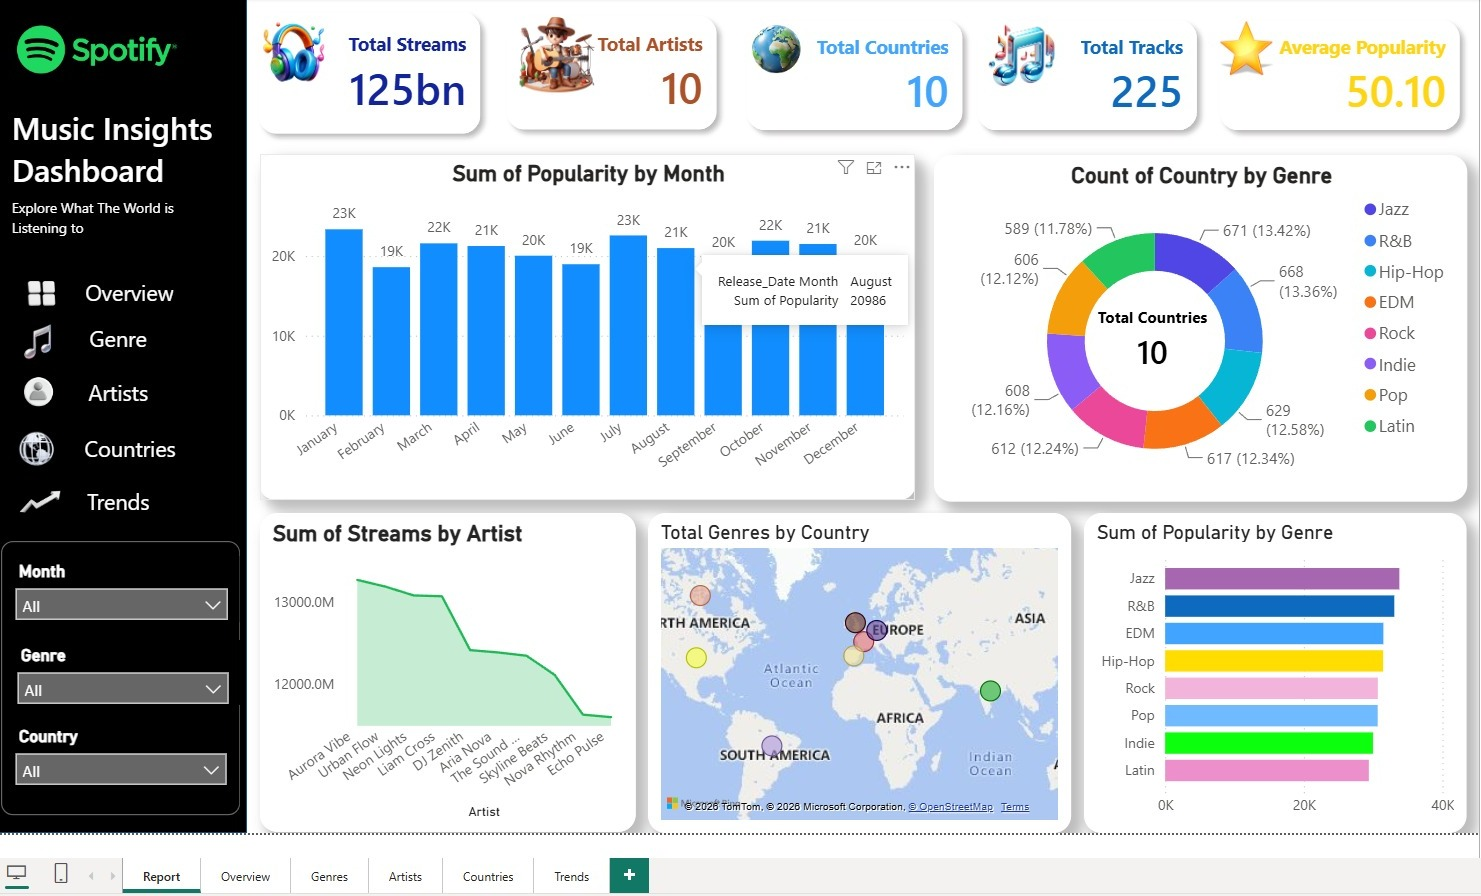

The page's visual inventory and layout, read from the dashboard file:
{"tool":"powerbi","page":{"name":"Report","canvas":[1280,720],"ordinal":0},"visuals":[{"type":"shape","box":[202.5,135,616.2,300],"z":0},{"type":"shape","box":[0,0,181,720.2],"z":1000},{"type":"image","box":[0,0,181,114.3],"z":2000},{"type":"textbox","box":[9.5,89.3,152.4,89.3],"z":3000},{"type":"textbox","box":[9.5,166.7,152.4,48.8],"z":4000},{"type":"cardVisual","fields":{"Data":["Spotify_Data.Total Streams"]},"box":[202.5,7.5,190,100],"z":5000},{"type":"cardVisual","fields":{"Data":["Spotify_Data.Average Popularity"]},"box":[1071.4,7.1,198.8,100],"z":6000},{"type":"cardVisual","fields":{"Data":["Spotify_Data.Total Countries"]},"box":[631,7.1,203.6,100],"z":7000},{"type":"cardVisual","fields":{"Data":["Spotify_Data.Total Tracks"]},"box":[851.2,7.1,203.6,100],"z":8000},{"type":"cardVisual","fields":{"Data":["Spotify_Data.Total Artists"]},"box":[409.5,7.1,203.6,100],"z":9000},{"type":"clusteredColumnChart","fields":{"Category":["Spotify_Data.Release_Date.Variation.Date Hierarchy.Month"],"Y":["Sum(Spotify_Data.Popularity)"]},"box":[202.5,135,591.2,298.8],"z":10000},{"type":"donutChart","fields":{"Category":["Spotify_Data.Genre"],"Y":["CountNonNull(Spotify_Data.Country)"]},"box":[810,135,460,298.8],"z":11000},{"type":"areaChart","fields":{"Category":["Spotify_Data.Artist"],"Y":["Sum(Spotify_Data.Streams)"]},"box":[203,443.9,349.7,275.1],"z":12000},{"type":"map","fields":{"Category":["Spotify_Data.Country"],"Size":["Spotify_Data.Total Genres"]},"box":[564.9,443.9,337.5,276.4],"z":13000},{"type":"clusteredBarChart","fields":{"Category":["Spotify_Data.Genre"],"Y":["Sum(Spotify_Data.Popularity)"]},"box":[913.5,443.9,357.1,276.4],"z":14000},{"type":"actionButton","box":[10,225,152.5,40],"z":15000},{"type":"actionButton","box":[10,275,152.5,40],"z":16000},{"type":"actionButton","box":[10,320,152.5,40],"z":17000},{"type":"actionButton","box":[7.5,368.8,156.2,40],"z":18000},{"type":"actionButton","box":[10,415,152.5,40],"z":19000}]}

Visuals, with their boxes on the page's 1280x720 design canvas (x1, y1, x2, y2). These are canvas units, not pixel positions in the 1481x896 screenshot, which may show the page scaled, cropped or inside an application window:
shape: (x1=202, y1=135, x2=819, y2=435)
shape: (x1=0, y1=0, x2=181, y2=720)
image: (x1=0, y1=0, x2=181, y2=114)
textbox: (x1=10, y1=89, x2=162, y2=179)
textbox: (x1=10, y1=167, x2=162, y2=216)
cardVisual - Spotify_Data.Total Streams: (x1=202, y1=8, x2=392, y2=108)
cardVisual - Spotify_Data.Average Popularity: (x1=1071, y1=7, x2=1270, y2=107)
cardVisual - Spotify_Data.Total Countries: (x1=631, y1=7, x2=835, y2=107)
cardVisual - Spotify_Data.Total Tracks: (x1=851, y1=7, x2=1055, y2=107)
cardVisual - Spotify_Data.Total Artists: (x1=410, y1=7, x2=613, y2=107)
clusteredColumnChart - Spotify_Data.Release_Date.Variation.Date Hierarchy.Month x Sum(Spotify_Data.Popularity): (x1=202, y1=135, x2=794, y2=434)
donutChart - Spotify_Data.Genre x CountNonNull(Spotify_Data.Country): (x1=810, y1=135, x2=1270, y2=434)
areaChart - Spotify_Data.Artist x Sum(Spotify_Data.Streams): (x1=203, y1=444, x2=553, y2=719)
map - Spotify_Data.Country x Spotify_Data.Total Genres: (x1=565, y1=444, x2=902, y2=720)
clusteredBarChart - Spotify_Data.Genre x Sum(Spotify_Data.Popularity): (x1=914, y1=444, x2=1271, y2=720)
actionButton: (x1=10, y1=225, x2=162, y2=265)
actionButton: (x1=10, y1=275, x2=162, y2=315)
actionButton: (x1=10, y1=320, x2=162, y2=360)
actionButton: (x1=8, y1=369, x2=164, y2=409)
actionButton: (x1=10, y1=415, x2=162, y2=455)
